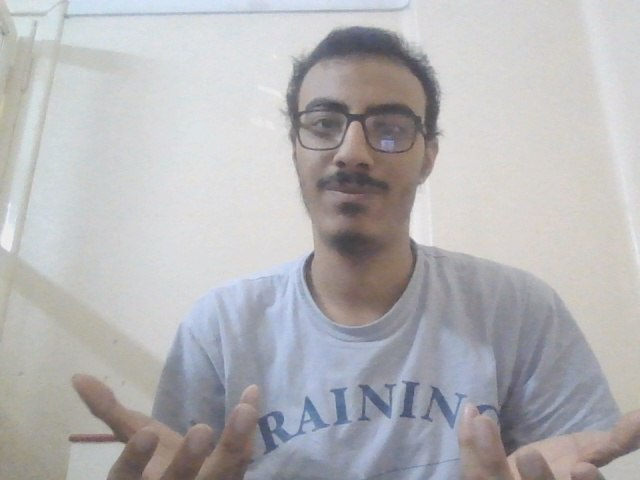What: (53, 344, 640, 480)
